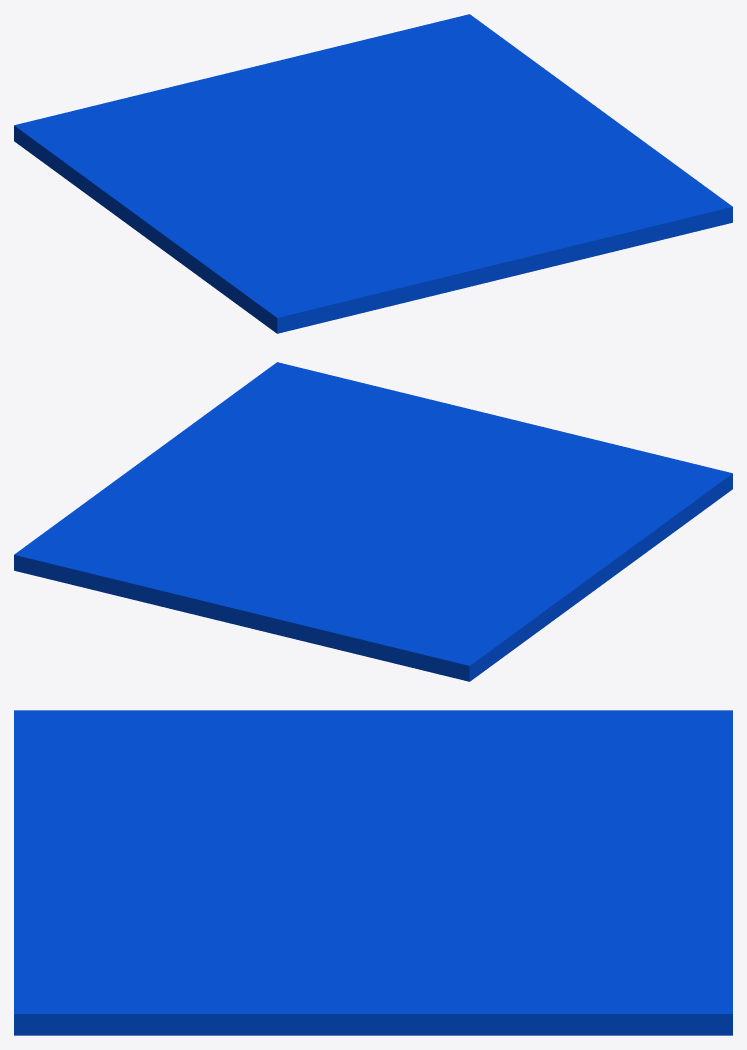
Rendered from Road_Beam_Double_05_Collider.fbx.
3 renders of one model, top to bottom at view 1: azimuth 30°, elevation 25°; view 2: azimuth 150°, elevation 25°; view 3: azimuth 270°, elevation 25°, orthographic. The views are drawn at different scales.
Parts seen in each view (by area): view 1: Road_Beam_Double_05_Collider; view 2: Road_Beam_Double_05_Collider; view 3: Road_Beam_Double_05_Collider.
Part boxes in pixels (box(x1,y1,x2,y2)): Road_Beam_Double_05_Collider: box(14, 14, 732, 333); Road_Beam_Double_05_Collider: box(14, 362, 732, 681); Road_Beam_Double_05_Collider: box(14, 710, 732, 1035).
Size of the model in its own units: 300 by 10 by 300.
